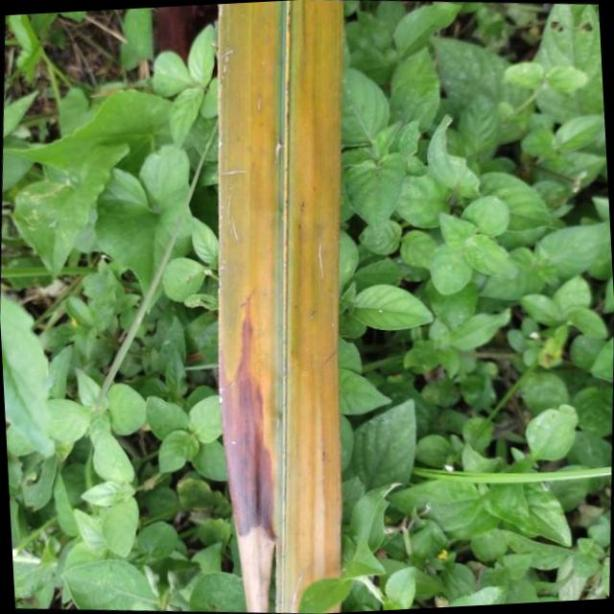Megnesium: (218, 0, 342, 614)
